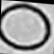no answer: (0, 1, 54, 54)
